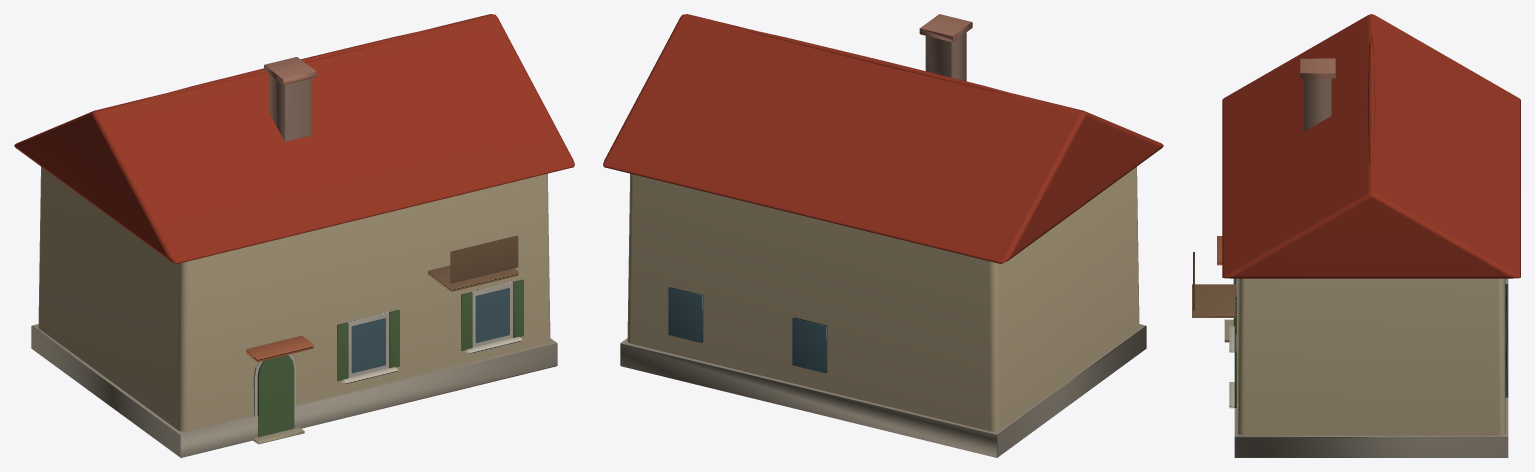
The model's file is house_01.glb.
The picture shows the model from 3 angles, left to right: view 1: azimuth 30°, elevation 25°; view 2: azimuth 150°, elevation 25°; view 3: azimuth 270°, elevation 25°; orthographic projection. The views are drawn at different scales.
Visible parts, largest first — view 1: house_01; view 2: house_01; view 3: house_01.
Part boxes in pixels (x1,y1,x2,y2): house_01: (14,14,574,457); house_01: (603,14,1163,457); house_01: (1192,14,1520,457).
Bounding box in the file's own units: 10.9 × 8.25 × 8.34.
